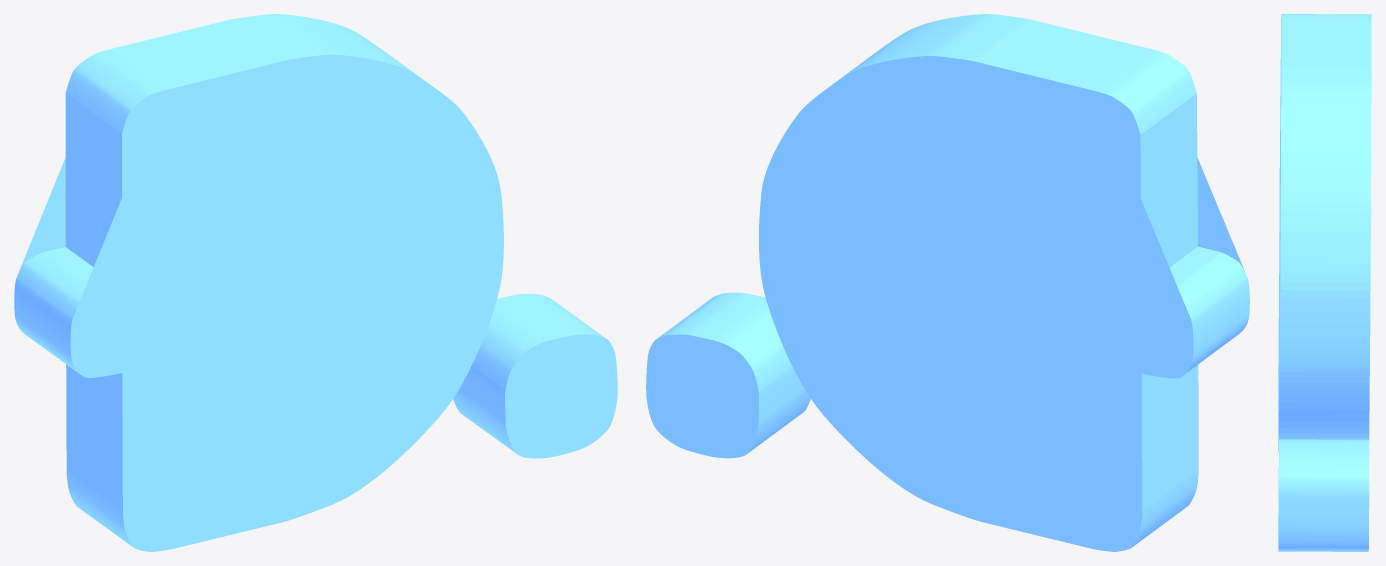
Rendered from hideaki_booth.fbx.
The picture shows the model from 3 angles, left to right: view 1: azimuth 30°, elevation 25°; view 2: azimuth 150°, elevation 25°; view 3: azimuth 270°, elevation 25°; orthographic projection. The views are drawn at different scales.
Visible parts, largest first — view 1: BezierCurve.001; view 2: BezierCurve.001; view 3: BezierCurve.001.
Boxes of the visible parts, x1,y1,x2,y2 form: BezierCurve.001: (14, 14, 617, 551); BezierCurve.001: (646, 14, 1249, 551); BezierCurve.001: (1278, 14, 1371, 551).
Size of the model in its own units: 415 by 334 by 76.37.
